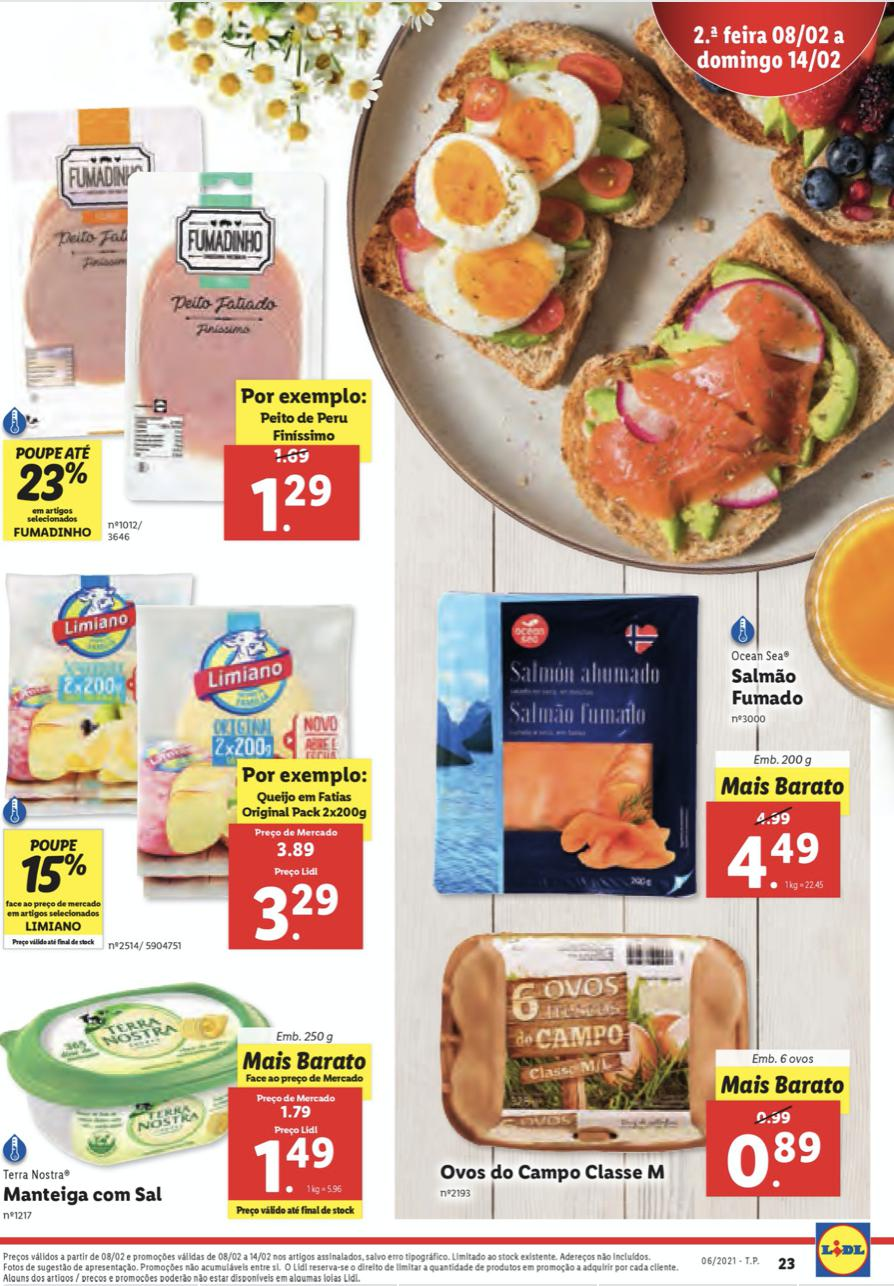name: (432, 1159, 672, 1186), (723, 663, 813, 713), (1, 1182, 167, 1207)
price: (724, 828, 824, 894), (249, 875, 338, 943), (251, 1133, 340, 1199), (723, 1133, 823, 1191), (246, 472, 335, 537)
product: (1, 85, 385, 545), (1, 553, 381, 963), (423, 574, 859, 917), (423, 918, 853, 1210), (1, 963, 381, 1236)
promotion: (15, 458, 89, 502), (19, 852, 89, 894)
